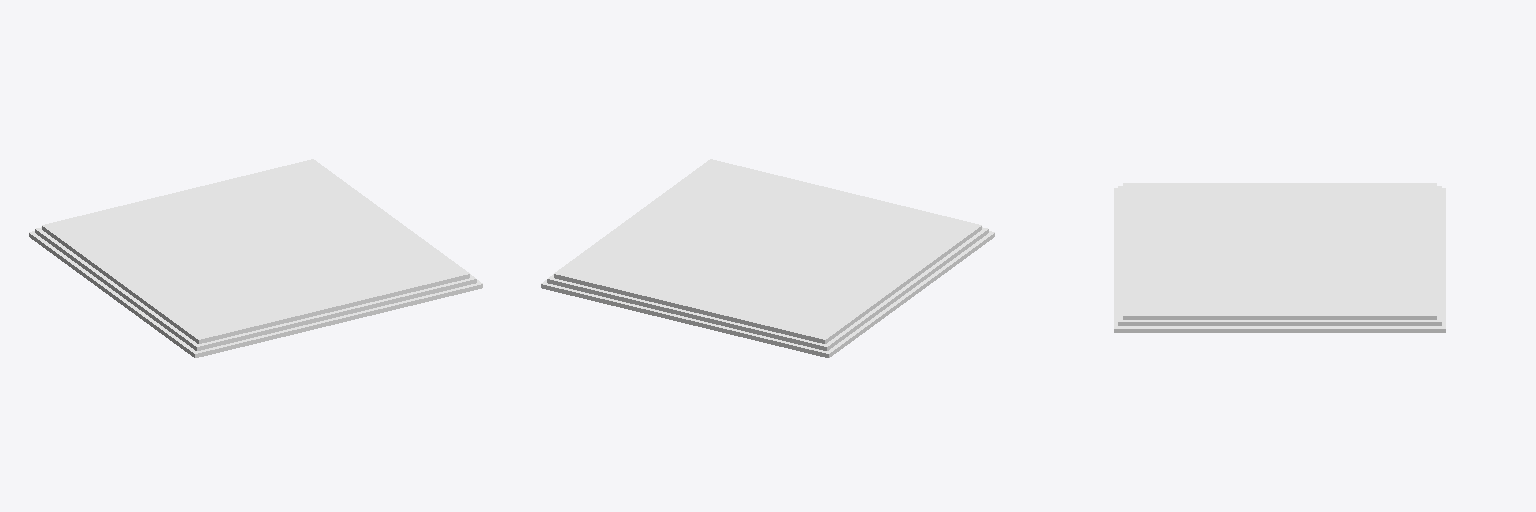
The model's file is oven_top.obj.
3 renders of one model, left to right at view 1: azimuth 30°, elevation 25°; view 2: azimuth 150°, elevation 25°; view 3: azimuth 270°, elevation 25°, orthographic.
Parts seen in each view (by area): view 1: object 1; view 2: object 1; view 3: object 1.
Boxes of the visible parts, box(x1,y1,x2,y2) form: object 1: box(29, 159, 482, 357); object 1: box(541, 159, 994, 357); object 1: box(1114, 183, 1445, 332).
Size of the model in its own units: 7 by 0.3 by 7.